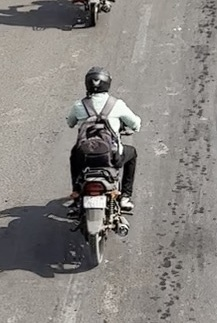BikeWithRider: (63, 64, 143, 266)
Helmet: (83, 65, 112, 95)
